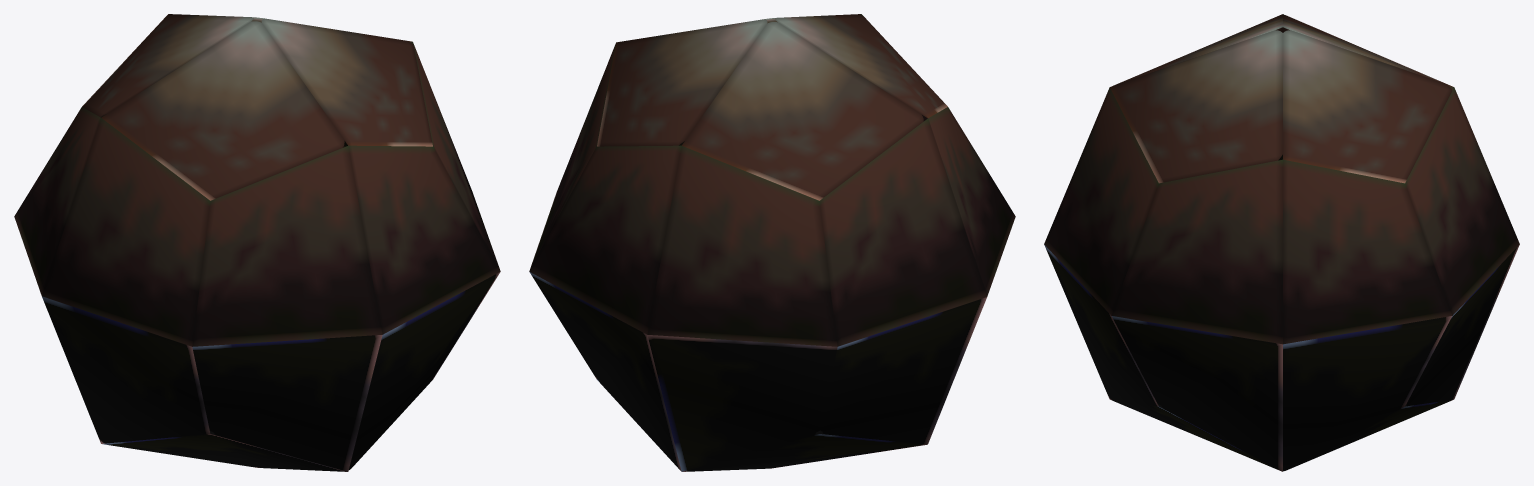
3 views of the same model, side by side, from view 1: azimuth 30°, elevation 25°; view 2: azimuth 150°, elevation 25°; view 3: azimuth 270°, elevation 25° (orthographic). The views are drawn at different scales.
Visible parts, largest first — view 1: T1L9M003_3; view 2: T1L9M003_3; view 3: T1L9M003_3.
Part boxes in pixels (x1,y1,x2,y2): T1L9M003_3: (14, 14, 500, 471); T1L9M003_3: (529, 14, 1015, 471); T1L9M003_3: (1044, 14, 1519, 471).
Size of the model in its own units: 0.2549 by 0.2549 by 0.2549.
